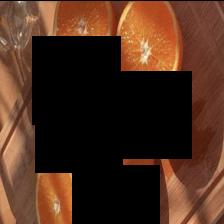orange: (92, 103, 154, 202), (118, 0, 175, 102), (59, 0, 114, 76), (35, 155, 91, 223)
